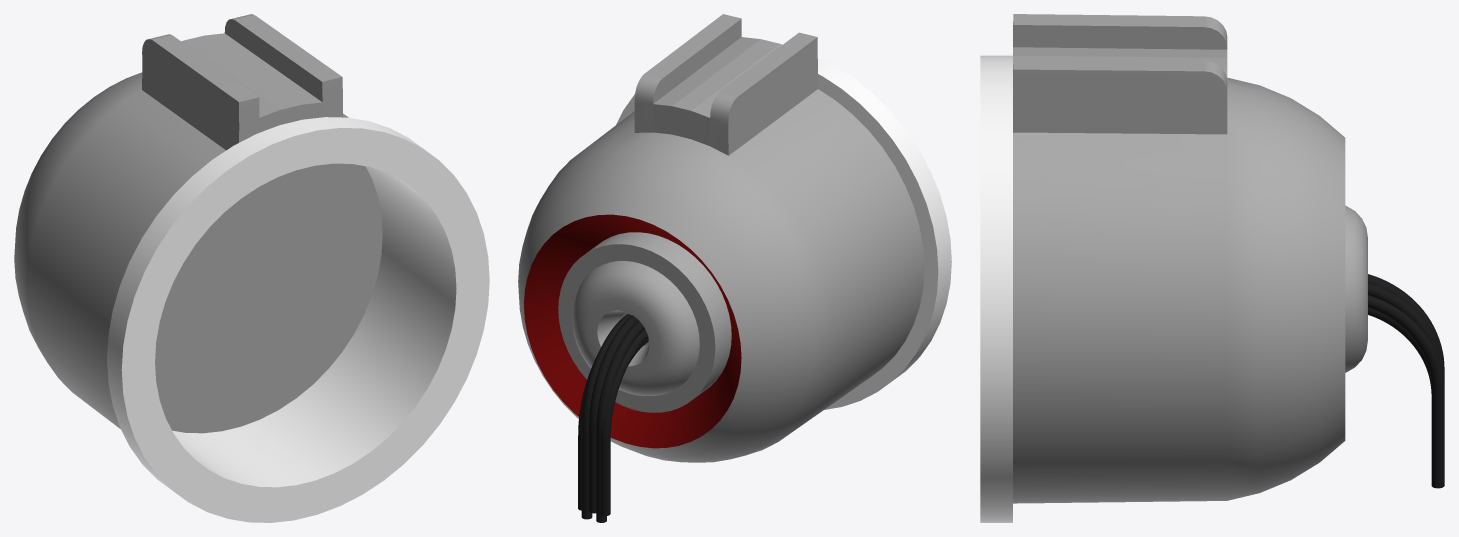
Rendered from GUn.fbx.
3 views of the same model, side by side, from view 1: azimuth 30°, elevation 25°; view 2: azimuth 150°, elevation 25°; view 3: azimuth 270°, elevation 25° (orthographic). The views are drawn at different scales.
Visible parts, largest first — view 1: Gun; view 2: Gun; view 3: Gun.
Boxes of the visible parts, left/top/right/bottom form: Gun: left=14, top=14, right=489, bottom=522; Gun: left=518, top=14, right=951, bottom=522; Gun: left=980, top=14, right=1444, bottom=522.
Bounding box in the file's own units: 71.99 × 77.97 × 71.48.
